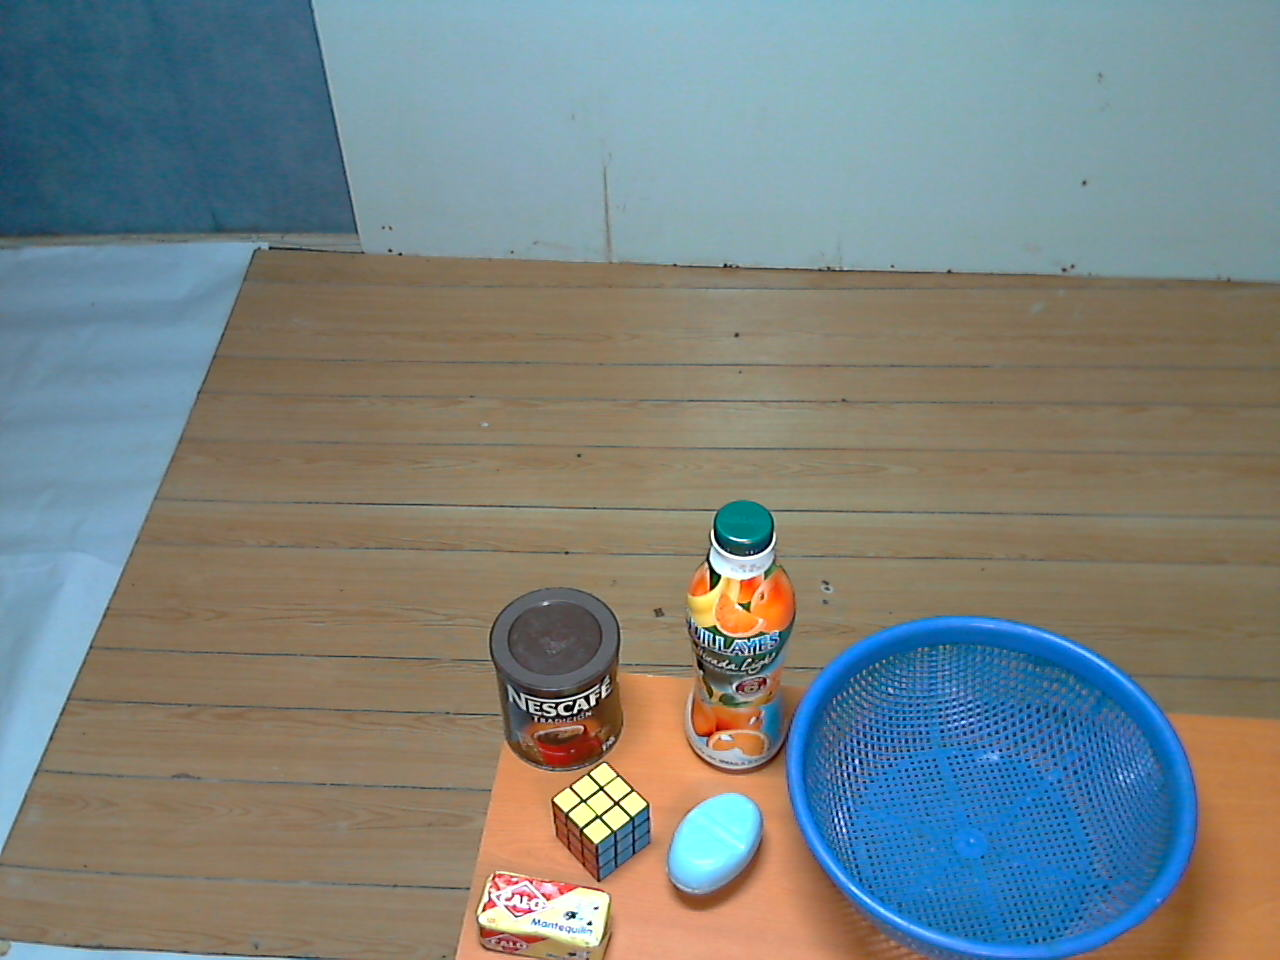cafe: (486, 584, 629, 772)
colador: (777, 611, 1209, 960)
cubix: (544, 754, 655, 882)
jabon: (655, 789, 770, 907)
mantequilla: (469, 857, 620, 960)
yogurt: (673, 500, 808, 781)
